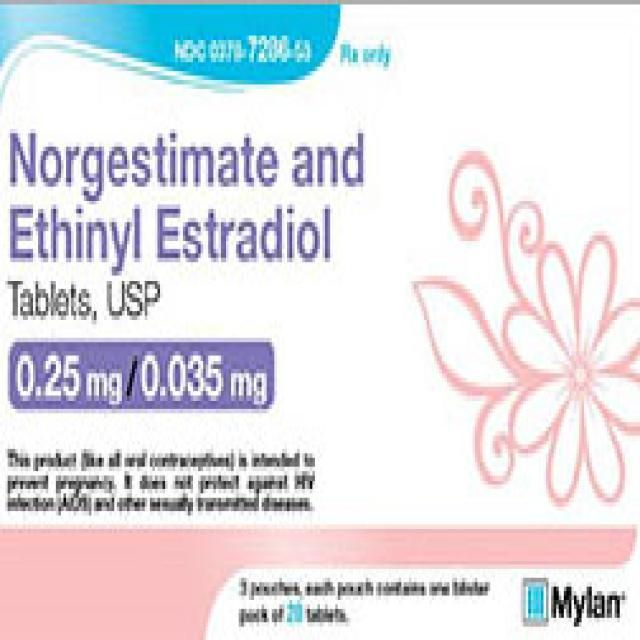drug-name: (4, 123, 370, 280)
